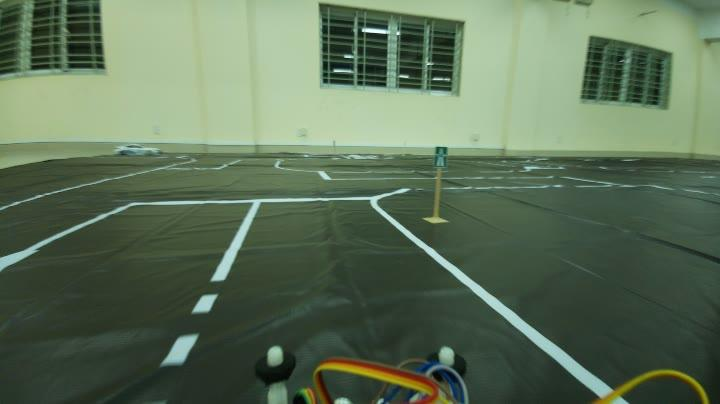highway_entry: (432, 136, 450, 169)
